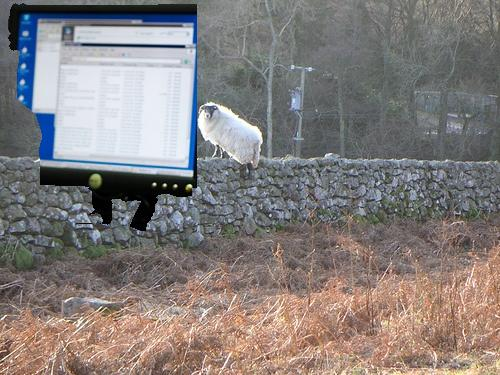tampered: (9, 4, 197, 231)
